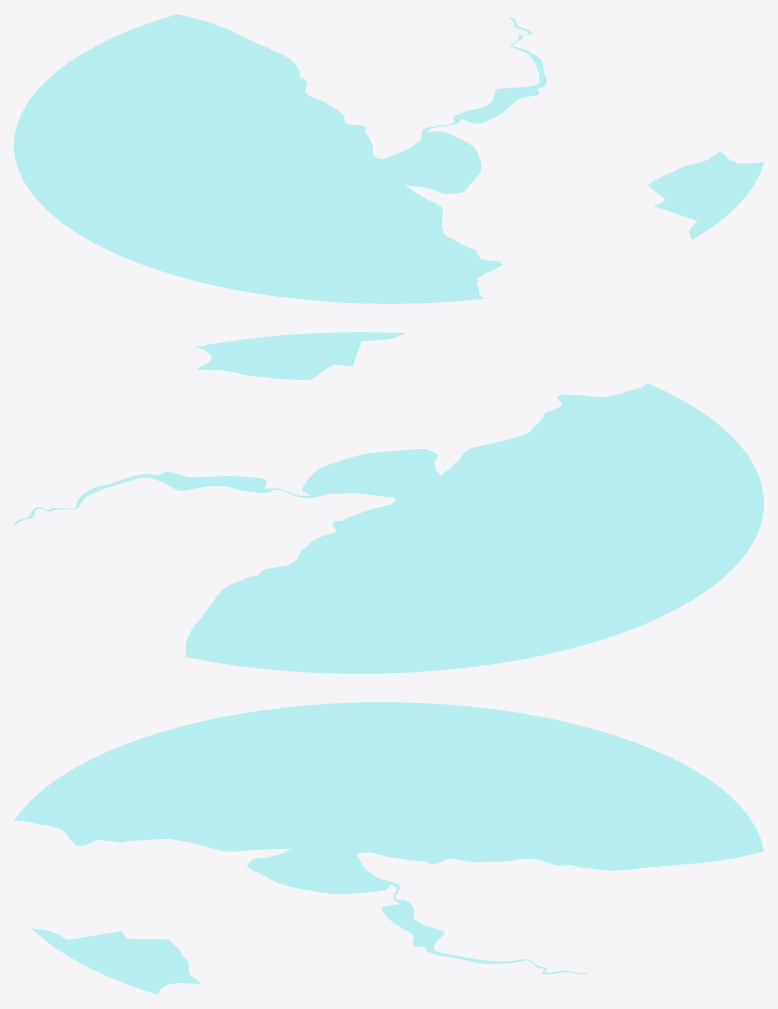
File: Sea-Latest2.glb
3 renders of one model, top to bottom at view 1: azimuth 30°, elevation 25°; view 2: azimuth 150°, elevation 25°; view 3: azimuth 270°, elevation 25°, orthographic. The views are drawn at different scales.
Parts seen in each view (by area): view 1: Sea; view 2: Sea; view 3: Sea.
Boxes of the visible parts, <box> form: Sea: <box>14,14,763,303</box>; Sea: <box>14,332,763,673</box>; Sea: <box>14,702,763,994</box>.
Size of the model in its own units: 402 by 0 by 435.
